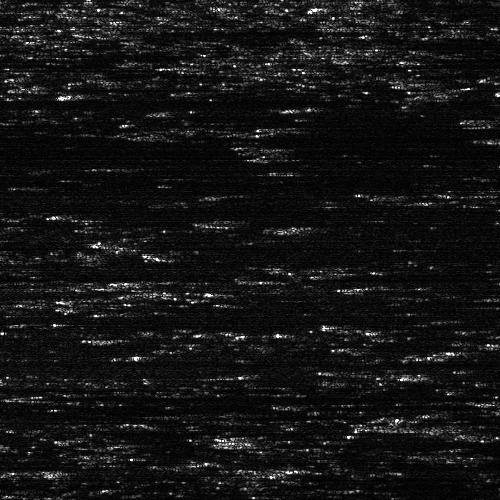rock: (275, 218, 306, 235), (58, 451, 121, 458), (0, 393, 61, 398), (41, 469, 94, 474), (214, 439, 225, 444)
shadow: (291, 218, 370, 235), (90, 451, 183, 458), (220, 439, 319, 444), (25, 393, 117, 398), (68, 469, 157, 474)
